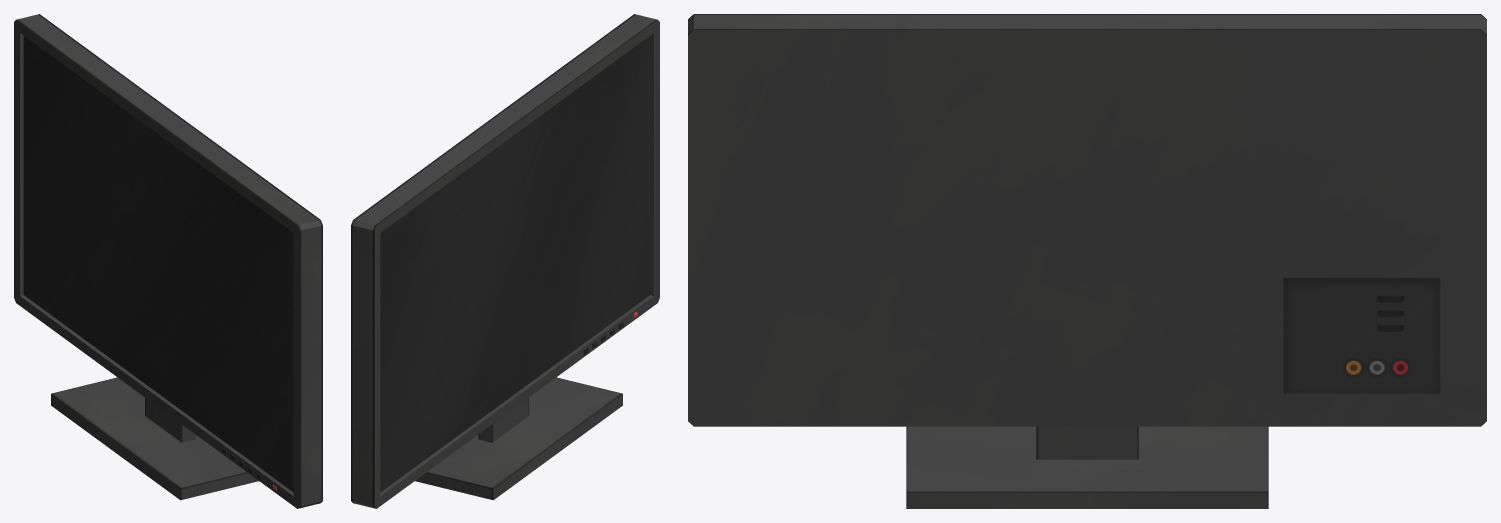
3 renders of one model, left to right at view 1: azimuth 30°, elevation 25°; view 2: azimuth 150°, elevation 25°; view 3: azimuth 270°, elevation 25°, orthographic. The views are drawn at different scales.
Parts seen in each view (by area): view 1: polySurface1380; view 2: polySurface1380; view 3: polySurface1380.
Boxes of the visible parts, x1=… form: polySurface1380: x1=14, y1=14, x2=322, y2=508; polySurface1380: x1=351, y1=14, x2=659, y2=508; polySurface1380: x1=688, y1=14, x2=1486, y2=508.
Bounding box in the file's own units: 0.2903 × 0.8118 × 1.31.
